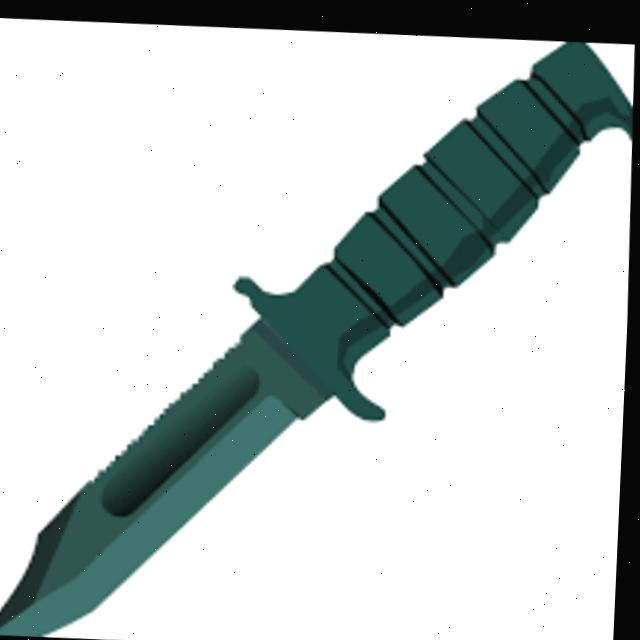Knife: (0, 6, 640, 640)
